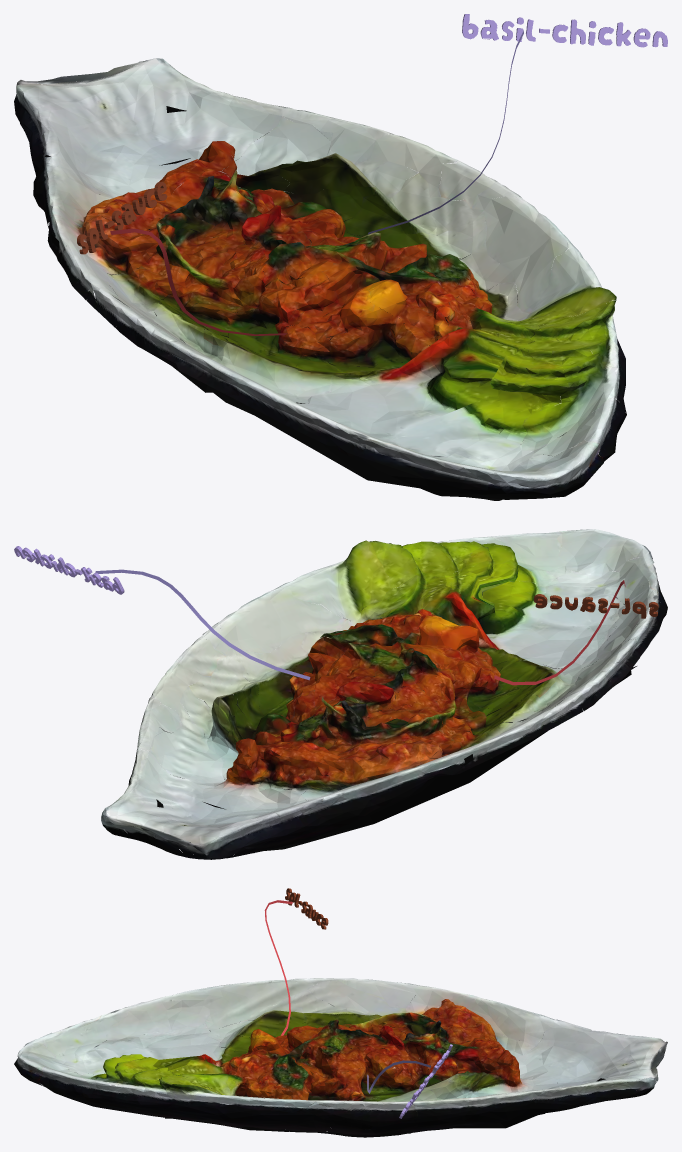
Rendered from fish_dish.glb.
The picture shows the model from 3 angles, top to bottom: view 1: azimuth 30°, elevation 25°; view 2: azimuth 150°, elevation 25°; view 3: azimuth 270°, elevation 25°; orthographic projection. The views are drawn at different scales.
Parts seen in each view (by area): view 1: Mesh_0.001, Cylinder, Text, Text.001, BézierCurve.001; view 2: Mesh_0.001, Cylinder, Text, Text.001, BézierCurve, BézierCurve.001; view 3: Mesh_0.001, Text.001, Cylinder, Text, BézierCurve.001.
Part boxes in pixels (x1=…): Mesh_0.001: x1=14, y1=58, x2=626, y2=499; Cylinder: x1=44, y1=106, x2=566, y2=500; Text: x1=462, y1=14, x2=667, y2=47; Text.001: x1=77, y1=182, x2=167, y2=254; BézierCurve.001: x1=110, y1=228, x2=287, y2=335; Mesh_0.001: x1=101, y1=529, x2=667, y2=859; Cylinder: x1=133, y1=604, x2=636, y2=858; Text: x1=14, y1=546, x2=124, y2=594; Text.001: x1=534, y1=594, x2=658, y2=618; BézierCurve: x1=95, y1=569, x2=310, y2=680; BézierCurve.001: x1=494, y1=580, x2=625, y2=685; Mesh_0.001: x1=14, y1=978, x2=667, y2=1137; Text.001: x1=285, y1=888, x2=328, y2=929; Cylinder: x1=106, y1=995, x2=627, y2=1133; Text: x1=399, y1=1044, x2=452, y2=1118; BézierCurve.001: x1=264, y1=900, x2=292, y2=1035.
Size of the model in its own units: 0.5598 by 0.1622 by 0.7513.
Materials: 6 (1 with a texture image).
